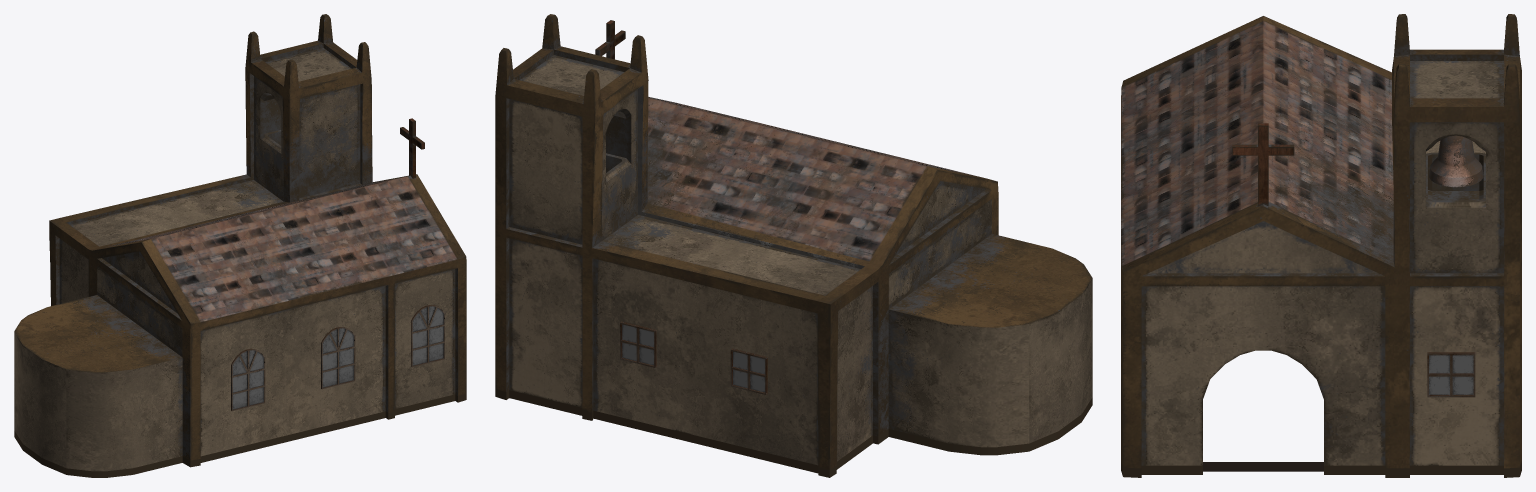
File: Capela Externa.fbx
3 views of the same model, side by side, from view 1: azimuth 30°, elevation 25°; view 2: azimuth 150°, elevation 25°; view 3: azimuth 270°, elevation 25° (orthographic). The views are drawn at different scales.
Visible parts, largest first — view 1: Cube.007; view 2: Cube.007; view 3: Cube.007.
Boxes of the visible parts, x1=… form: Cube.007: x1=14, y1=14, x2=466, y2=477; Cube.007: x1=495, y1=14, x2=1092, y2=477; Cube.007: x1=1121, y1=14, x2=1521, y2=477.
Bounding box in the file's own units: 2318 × 1642 × 1462.
